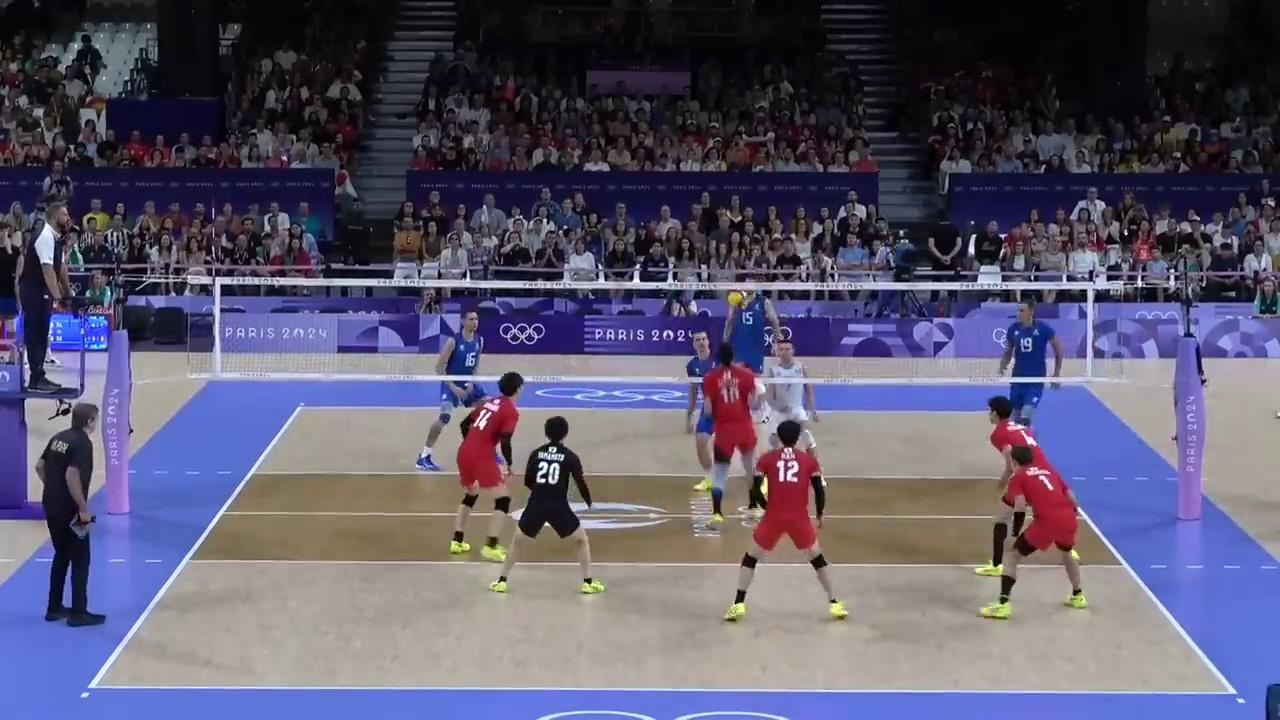ball: (728, 290, 748, 305)
